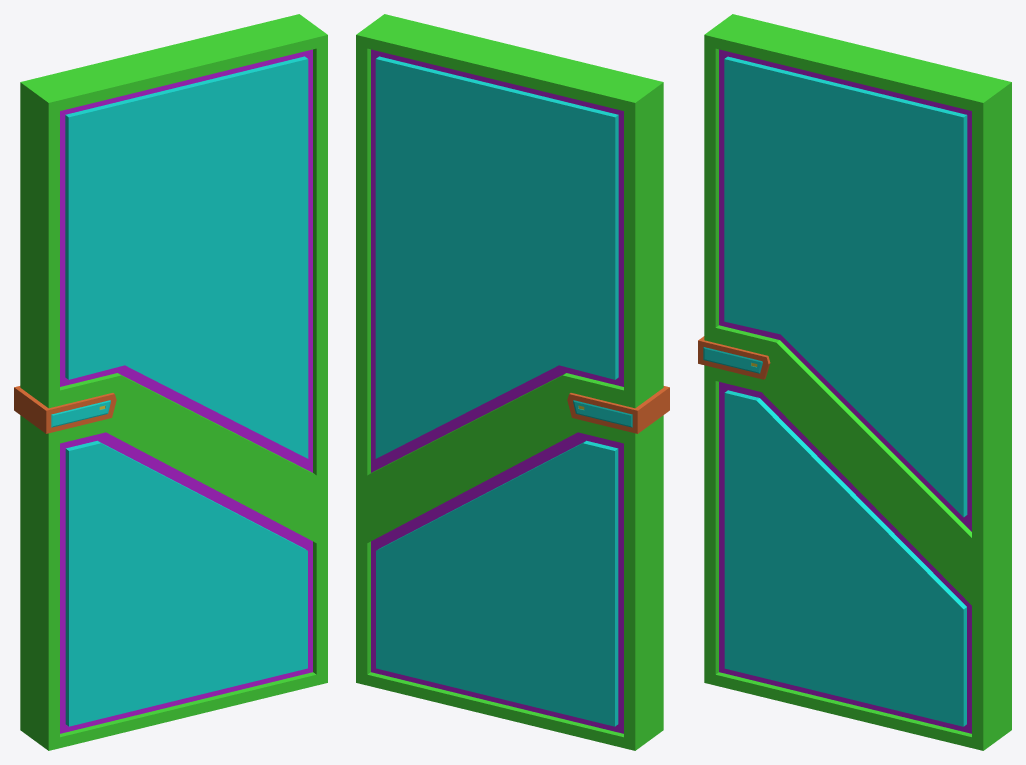
Rendered from Door_07.fbx.
3 renders of one model, left to right at view 1: azimuth 30°, elevation 25°; view 2: azimuth 150°, elevation 25°; view 3: azimuth 330°, elevation 25°, orthographic.
Parts seen in each view (by area): view 1: Door_07; view 2: Door_07; view 3: Door_07.
Part boxes in pixels (<box>): Door_07: <box>14,14,327,750</box>; Door_07: <box>356,14,669,750</box>; Door_07: <box>698,14,1011,750</box>.
Bounding box in the file's own units: 116 × 254 × 23.16.
